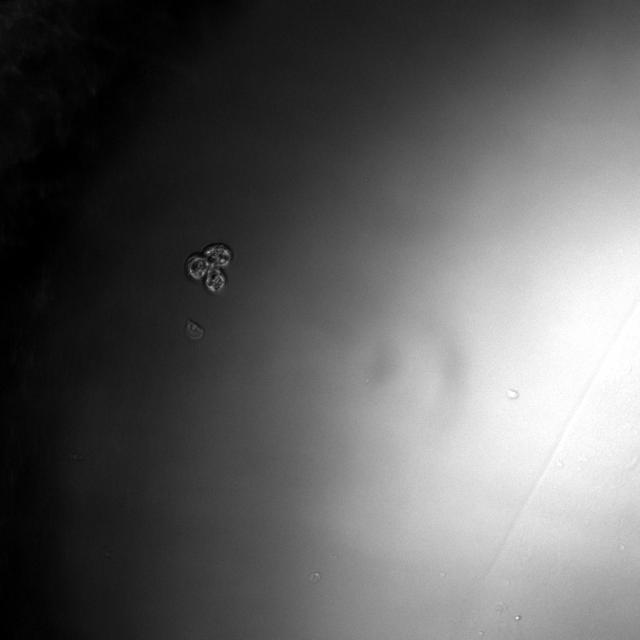organoid: (184, 243, 233, 294), (184, 319, 204, 339)
